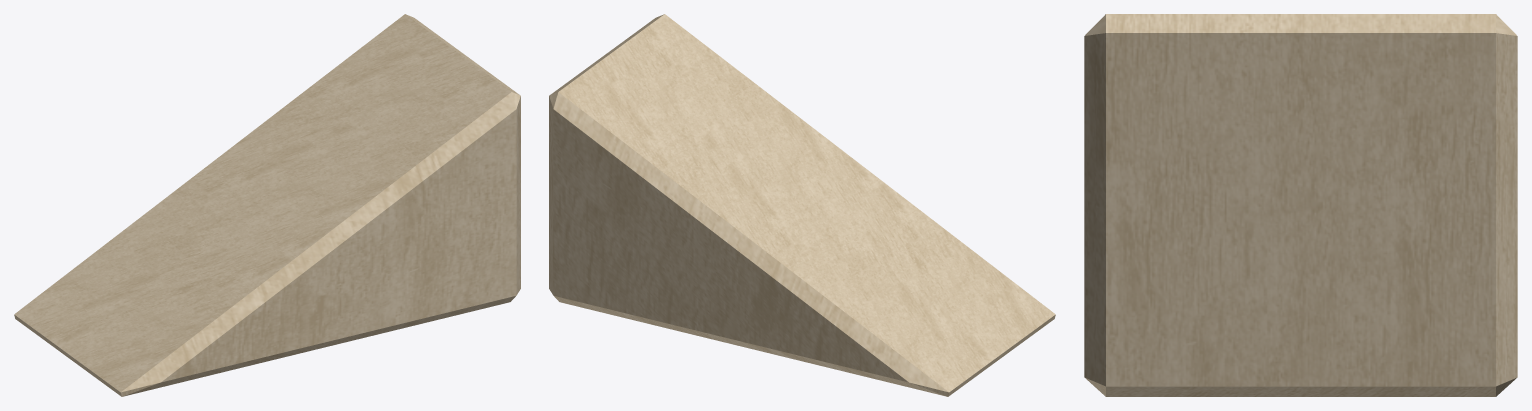
Rendered from ramp.glb.
3 views of the same model, side by side, from view 1: azimuth 30°, elevation 25°; view 2: azimuth 150°, elevation 25°; view 3: azimuth 270°, elevation 25° (orthographic). The views are drawn at different scales.
Visible parts, largest first — view 1: ramp; view 2: ramp; view 3: ramp.
Boxes of the visible parts, x1=… form: ramp: x1=14, y1=14, x2=520, y2=396; ramp: x1=549, y1=14, x2=1055, y2=396; ramp: x1=1084, y1=14, x2=1517, y2=396.
Bounding box in the file's own units: 3.9 × 1.96 × 2.
1 material, 1 textured.
